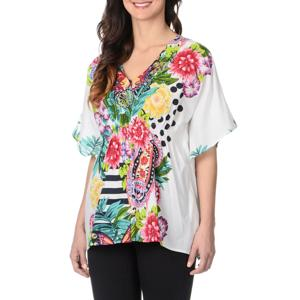C_short blouse: (66, 40, 243, 254)
F_W_pants: (75, 242, 199, 300)
